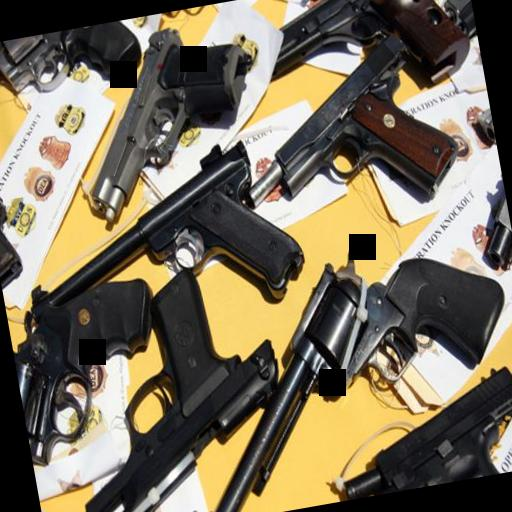Handgun: (152, 212, 512, 512), (38, 254, 306, 512), (5, 133, 310, 341), (53, 7, 282, 236), (226, 23, 466, 226), (1, 261, 176, 477), (250, 0, 479, 116), (0, 17, 150, 145)
